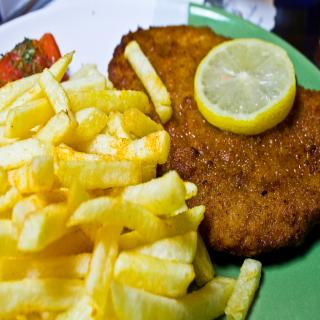French fries: (14, 57, 226, 313)
Lemon: (196, 38, 294, 130)
